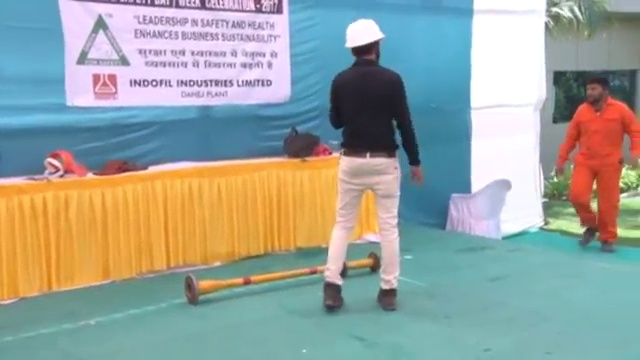helmet: (343, 17, 386, 49)
helmet_off: (581, 78, 611, 107)
helmet_on: (343, 16, 386, 68)
person: (322, 14, 421, 310), (556, 76, 640, 253)
